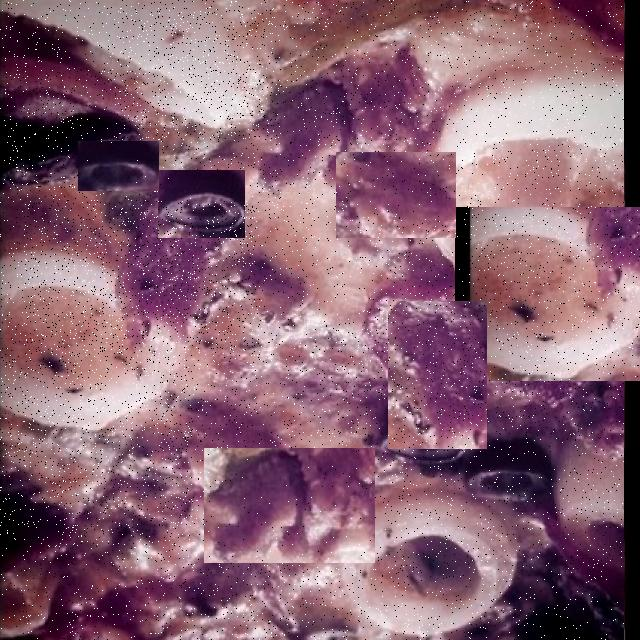Eggs: (0, 326, 192, 549)
Ham: (22, 200, 254, 354), (204, 448, 375, 563), (388, 301, 487, 449), (328, 2, 451, 98), (336, 152, 456, 238)
Olives: (158, 170, 245, 238), (78, 141, 159, 191)
Onions: (455, 207, 640, 381), (108, 9, 277, 140), (0, 46, 77, 199)
Pizza: (0, 0, 624, 640)
